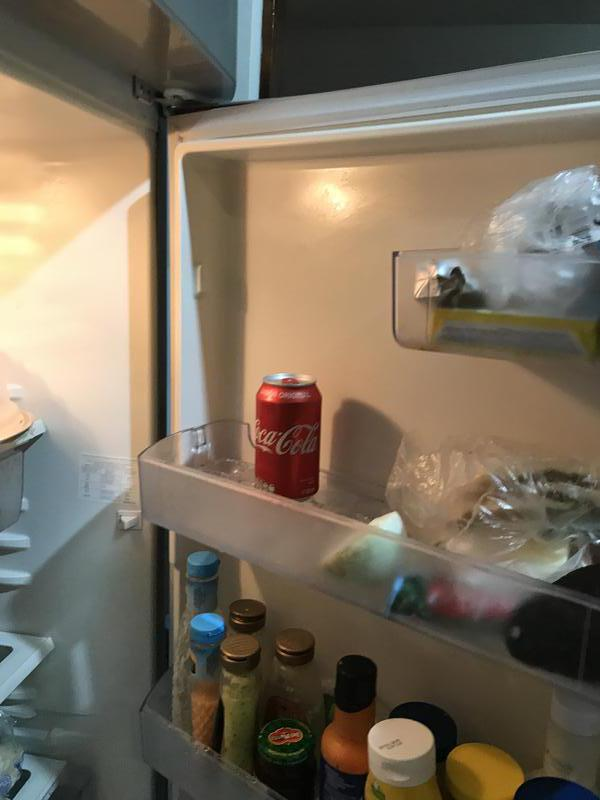coca_cola: (252, 375, 319, 499)
